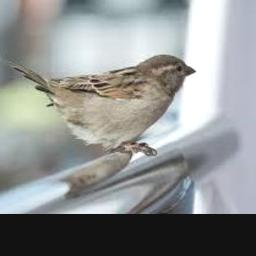Sparrow: (7, 55, 196, 155)
